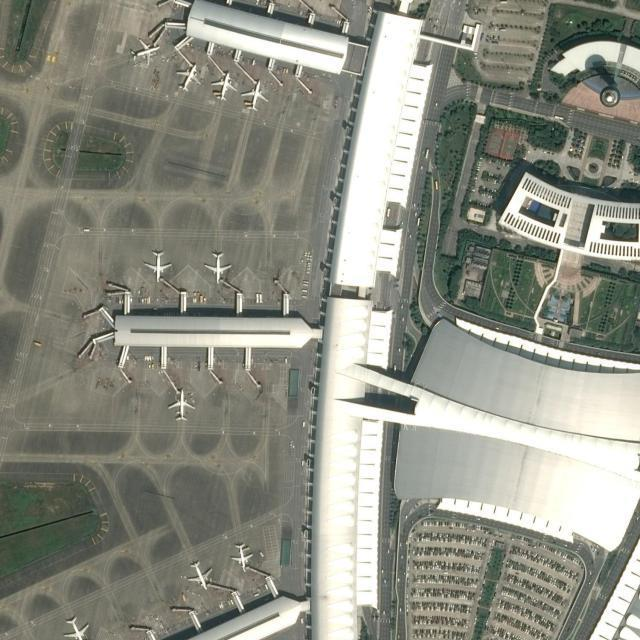Aircraft: (167, 387, 196, 421), (239, 79, 269, 110), (143, 249, 172, 281), (210, 70, 237, 102), (203, 251, 231, 281), (129, 38, 161, 63), (174, 62, 199, 92), (186, 559, 210, 589), (231, 541, 254, 571), (61, 615, 88, 640)
